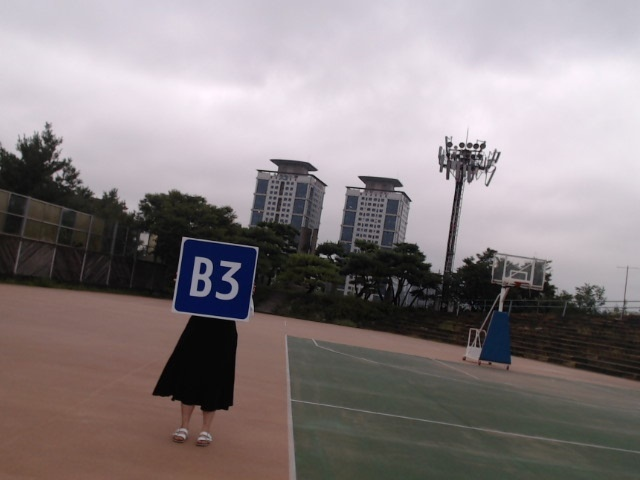delivery_b3: (174, 237, 258, 320)
